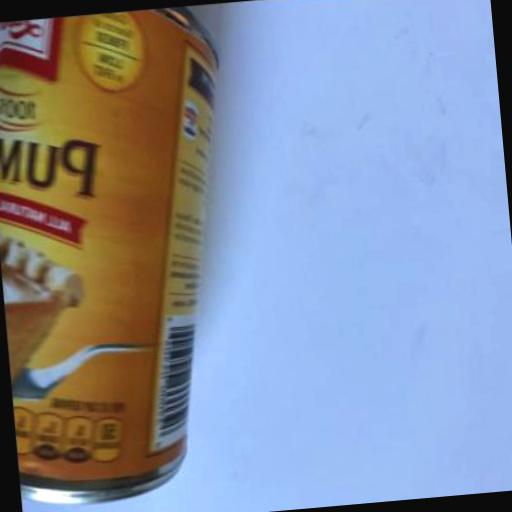metal: (0, 4, 259, 509)
